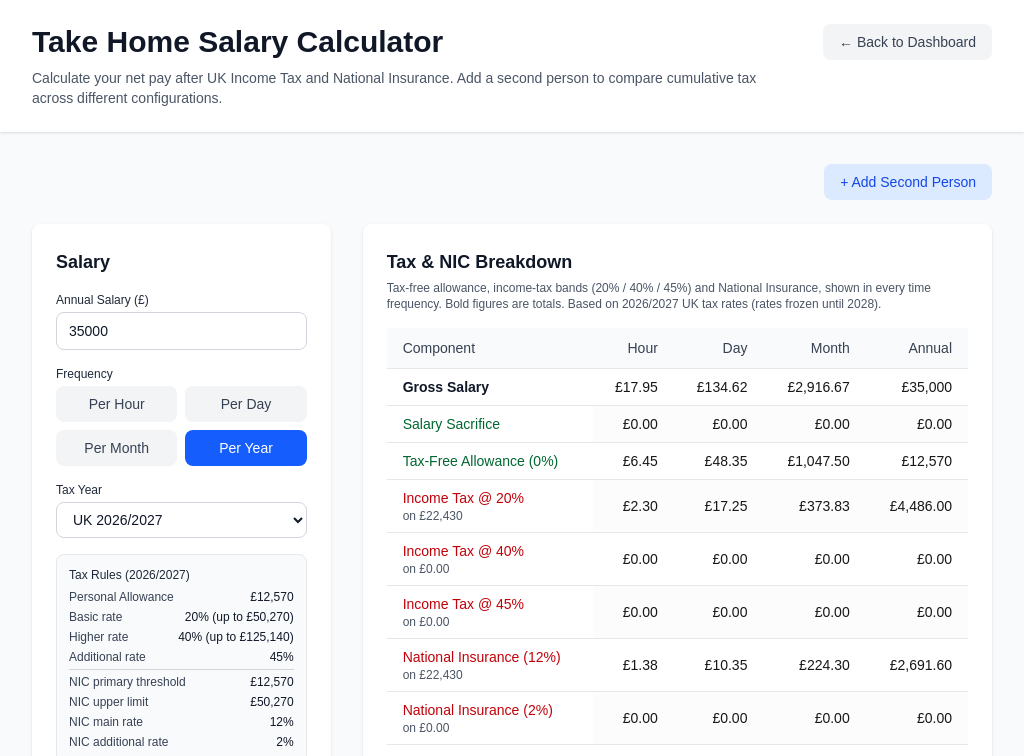
Test: TakeHomeSalaryCalculator › switches currency frequency when frequency button is clicked
Check: the number field labelled "Annual Salary (£)" holds "35000", box [56,312,307,350]
# Switch to monthly
Step 1. Click the button "Per Month" → point(117, 448), box [56,430,177,466]
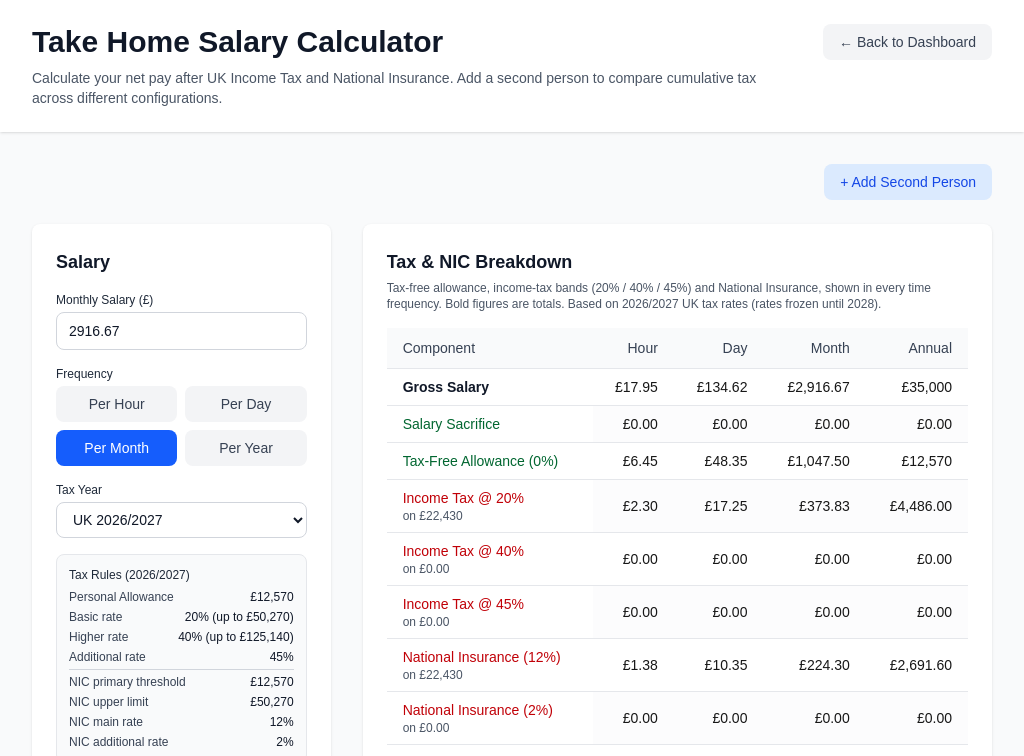
Check: the number field labelled "Monthly Salary (£)" holds "2916.67", box [56,312,307,350]
# Switch back to annual
Step 2. Click the button "Per Year" → point(246, 448), box [185,430,307,466]
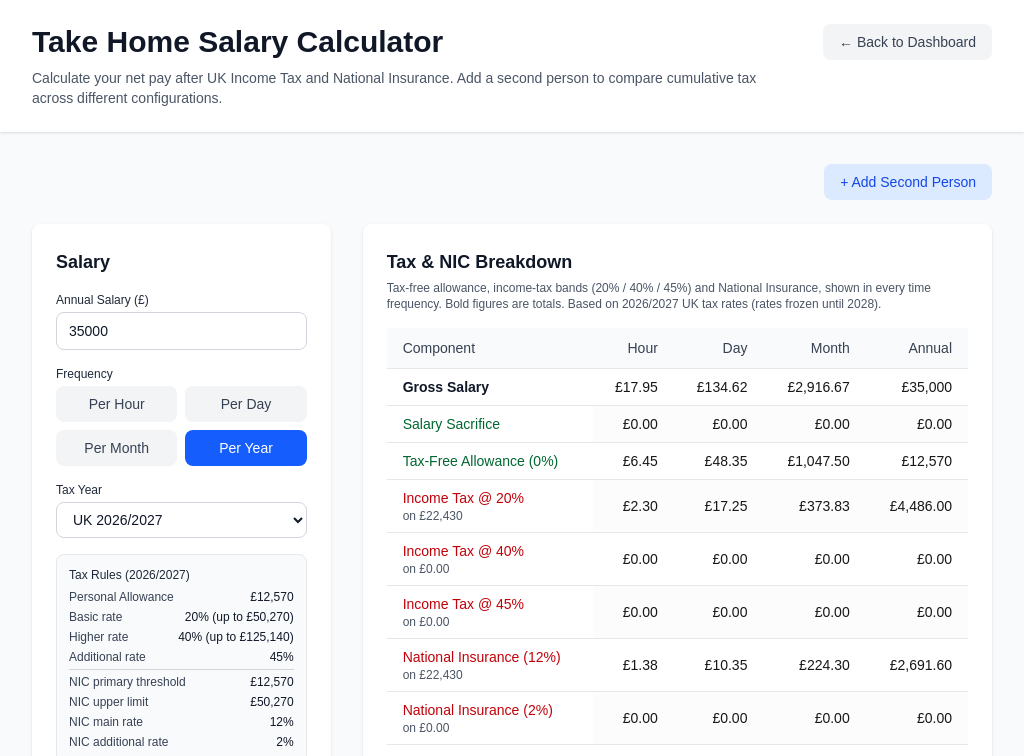
Check: the number field named "Monthly Salary (£)" holds "35000", box [56,312,307,350]
